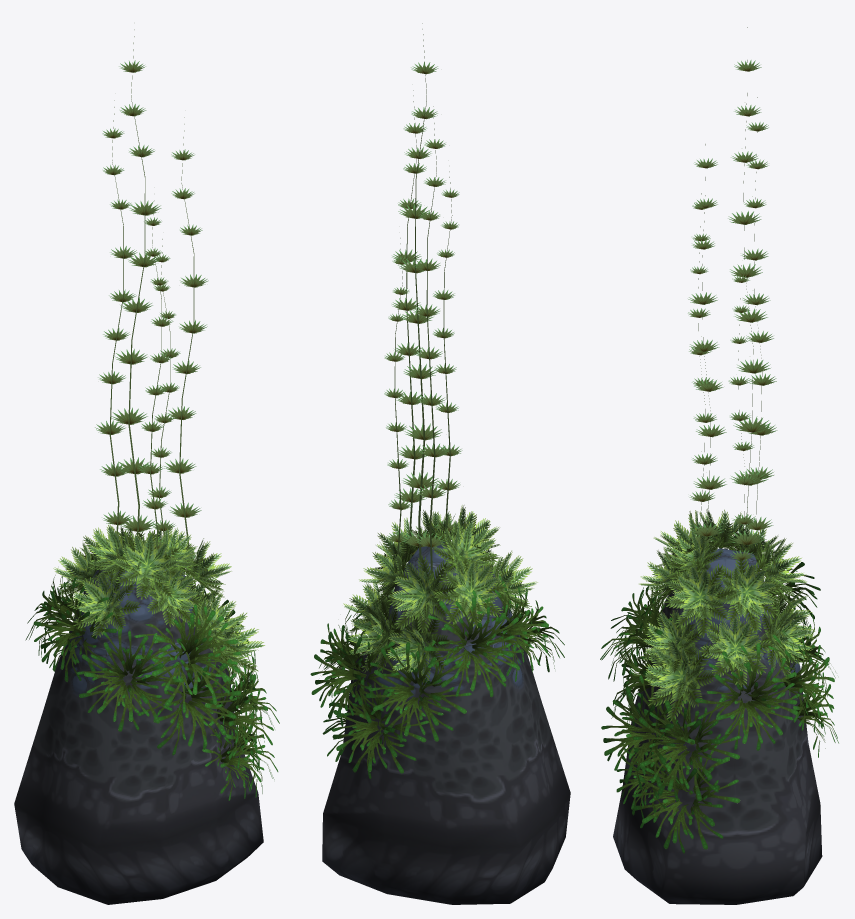
The model's file is CoralSet_01.FBX.
3 views of the same model, side by side, from view 1: azimuth 30°, elevation 25°; view 2: azimuth 150°, elevation 25°; view 3: azimuth 270°, elevation 25° (orthographic). The views are drawn at different scales.
Visible parts, largest first — view 1: Set_01, Set_01_Part2, Set1_Part4, Set_01_Part3; view 2: Set_01, Set_01_Part2, Set1_Part4, Set_01_Part3; view 3: Set_01, Set_01_Part2, Set1_Part4, Set_01_Part3.
Part boxes in pixels (<box>): Set_01: <box>14,549,263,904</box>; Set_01_Part2: <box>25,568,279,800</box>; Set1_Part4: <box>53,524,264,679</box>; Set_01_Part3: <box>95,29,208,578</box>; Set_01: <box>322,541,570,904</box>; Set_01_Part2: <box>310,562,564,779</box>; Set1_Part4: <box>343,505,537,686</box>; Set_01_Part3: <box>384,23,462,579</box>; Set_01: <box>613,548,822,904</box>; Set_01_Part2: <box>600,543,838,853</box>; Set1_Part4: <box>639,508,814,721</box>; Set_01_Part3: <box>688,27,777,598</box>.
Size of the model in its own units: 60.23 by 215 by 55.3.
